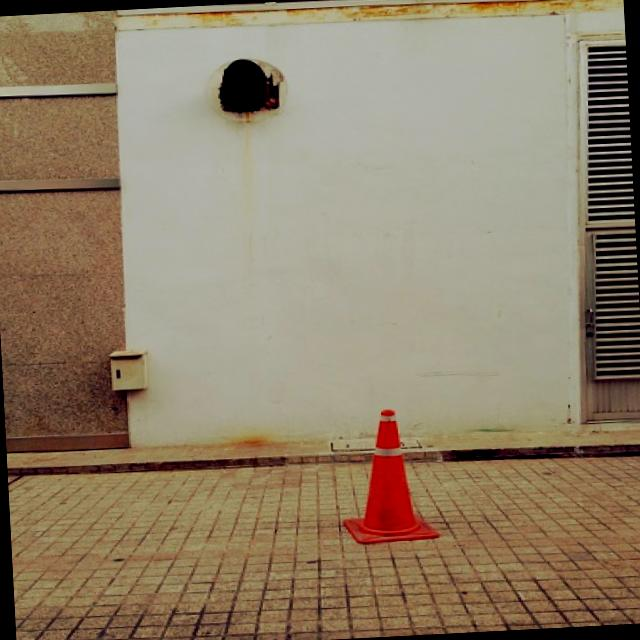cone: (310, 375, 454, 556)
